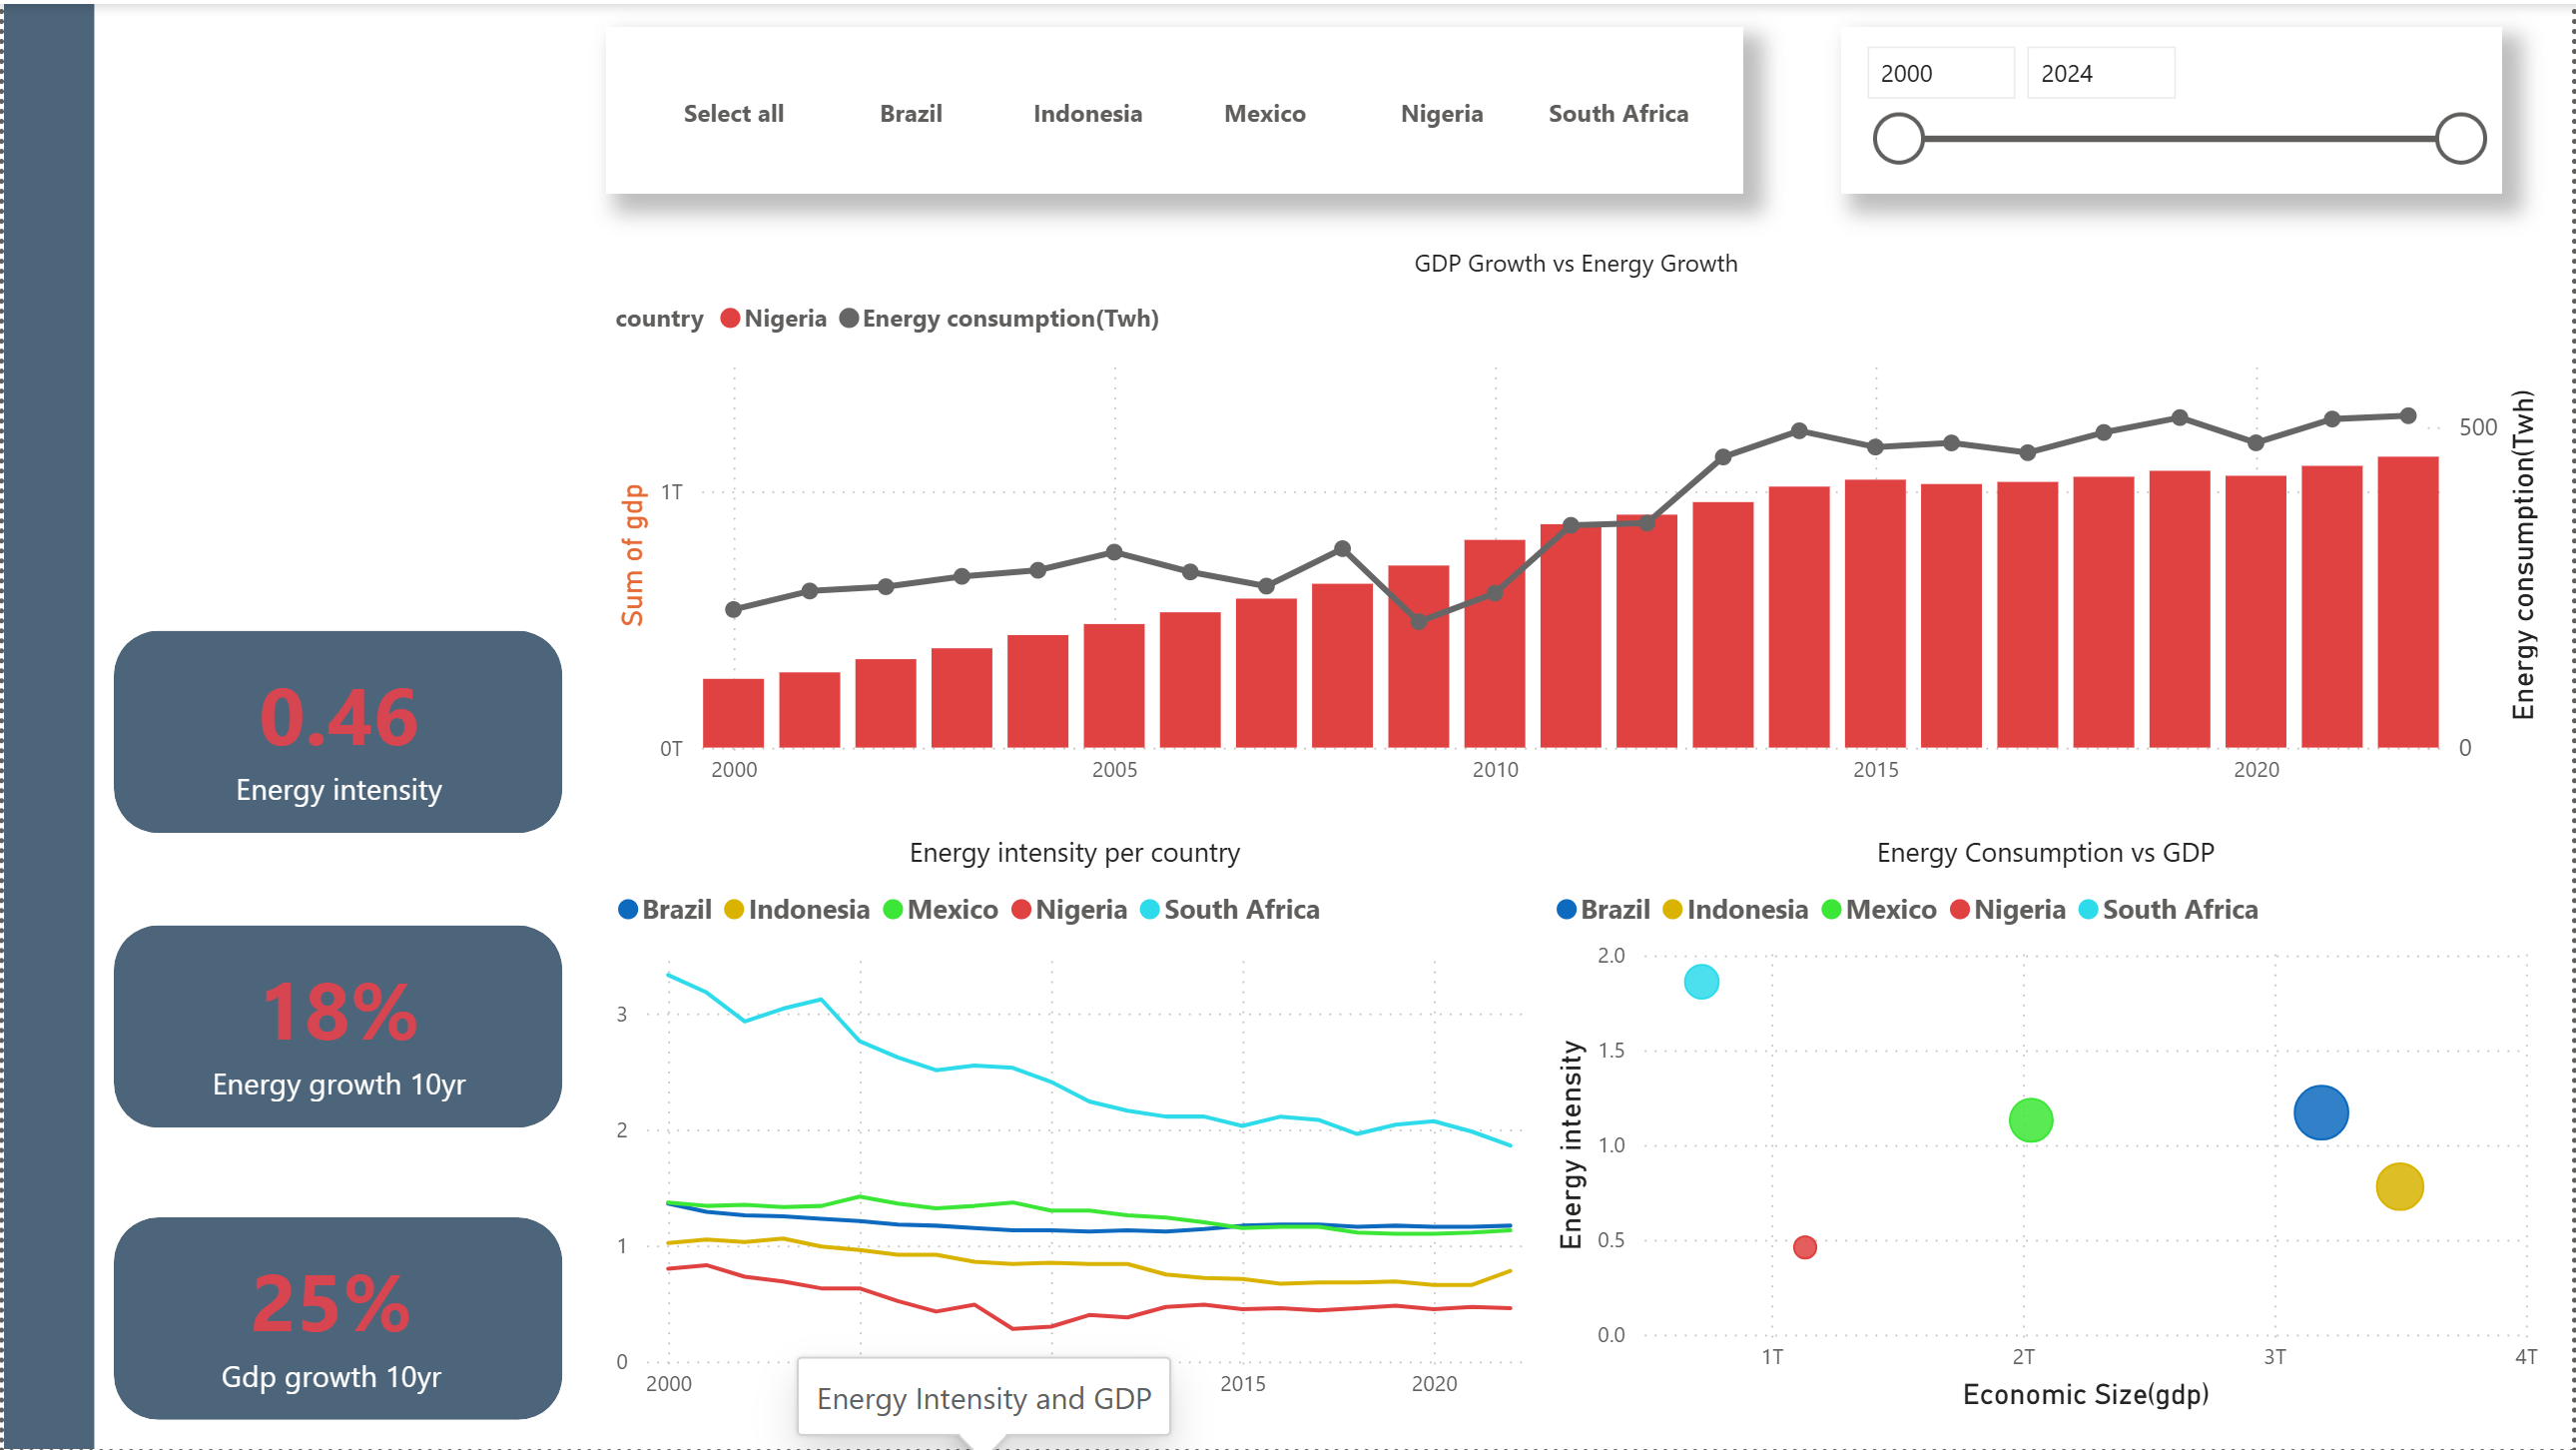

Layout of this report page (visuals, bound fields, positions):
{"tool":"powerbi","page":{"name":"Energy Intensity and GDP","canvas":[1280,720],"ordinal":1},"visuals":[{"type":"shape","box":[0,0,45,720.3],"z":0},{"type":"group","id":"g1","title":"KPI 1","box":[54.9,312.2,223.9,100.8],"z":0,"group":"g4"},{"type":"shape","box":[54.9,312.2,223.6,101],"z":0,"group":"g1"},{"type":"shape","box":[54.9,458.4,223.6,101],"z":0,"group":"g2"},{"type":"shape","box":[55.5,604.5,223.6,101],"z":0,"group":"g3"},{"type":"card","fields":{"Values":["Measure Table.Energy intensity"]},"box":[85.2,312.2,164.5,101],"z":1000,"group":"g1"},{"type":"scatterChart","title":"Energy Consumption vs GDP","fields":{"Series":["energy_consumption_trend.country"],"Size":["Measure Table.Total Energy"],"X":["energy_consumption_trend.gdp"],"Y":["Measure Table.Energy intensity"]},"box":[767.5,413,500.1,292.3],"z":1000},{"type":"group","id":"g2","title":"KPI 2","box":[54.9,458.4,223.9,100.8],"z":1000,"group":"g4"},{"type":"card","fields":{"Values":["Sum(energy_consumption_growth_10_year.energy_consumption_growth_10yr)"]},"box":[85.2,458.4,164.5,101],"z":1000,"group":"g2"},{"type":"card","fields":{"Values":["Sum(gdp_growth_rate_10_year.gdp_growth_10yr)"]},"box":[81.5,604.5,164.5,101],"z":1000,"group":"g3"},{"type":"lineChart","title":"Energy intensity per country","fields":{"Series":["energy_consumption_trend.country"],"Y":["Measure Table.Energy intensity"],"Category":["year_date.year_date.Variation.Date Hierarchy.Year"]},"box":[299.8,413,467.7,292.3],"z":2000},{"type":"group","id":"g3","title":"KPI 3","box":[55.5,604.5,222.7,100.8],"z":2000,"group":"g4"},{"type":"lineClusteredColumnComboChart","title":"GDP Growth vs Energy Growth","fields":{"Series":["energy_consumption_trend.country"],"Category":["energy_consumption_trend.year_date"],"Y2":["Sum(energy_consumption_trend.energy_consumption_twh)"],"Y":["Sum(energy_consumption_trend.gdp)"]},"box":[299.8,120.7,967.8,278.6],"z":3000},{"type":"slicer","fields":{"Values":["country.country"]},"box":[299.8,11.2,567.2,83.3],"z":4000},{"type":"slicer","fields":{"Values":["year_date.year_date.Variation.Date Hierarchy.Year"]},"box":[915.6,11.2,329.6,83.3],"z":5000},{"type":"group","id":"g4","title":"KPI Cards","box":[54.9,312.2,223.9,393.1],"z":6000}]}

Visuals, with their boxes in screenshot pixels (x1, y1, x2, y2), scaled from the page's 1280x720 canvas onto the 2576x1450 screenshot:
shape: <region>0, 0, 91, 1449</region>
"KPI 1" group: <region>111, 629, 561, 832</region>
shape: <region>111, 629, 560, 832</region>
shape: <region>111, 923, 560, 1126</region>
shape: <region>112, 1217, 562, 1421</region>
card - Measure Table.Energy intensity: <region>172, 629, 502, 832</region>
"Energy Consumption vs GDP" scatterChart: <region>1545, 832, 2551, 1420</region>
"KPI 2" group: <region>111, 923, 561, 1126</region>
card - Sum(energy_consumption_growth_10_year.energy_consumption_growth_10yr): <region>172, 923, 502, 1126</region>
card - Sum(gdp_growth_rate_10_year.gdp_growth_10yr): <region>164, 1217, 495, 1421</region>
"Energy intensity per country" lineChart: <region>603, 832, 1545, 1420</region>
"KPI 3" group: <region>112, 1217, 560, 1420</region>
"GDP Growth vs Energy Growth" lineClusteredColumnComboChart: <region>603, 243, 2551, 804</region>
slicer - country.country: <region>603, 23, 1745, 191</region>
slicer - year_date.year_date.Variation.Date Hierarchy.Year: <region>1843, 23, 2506, 191</region>
"KPI Cards" group: <region>111, 629, 561, 1420</region>
